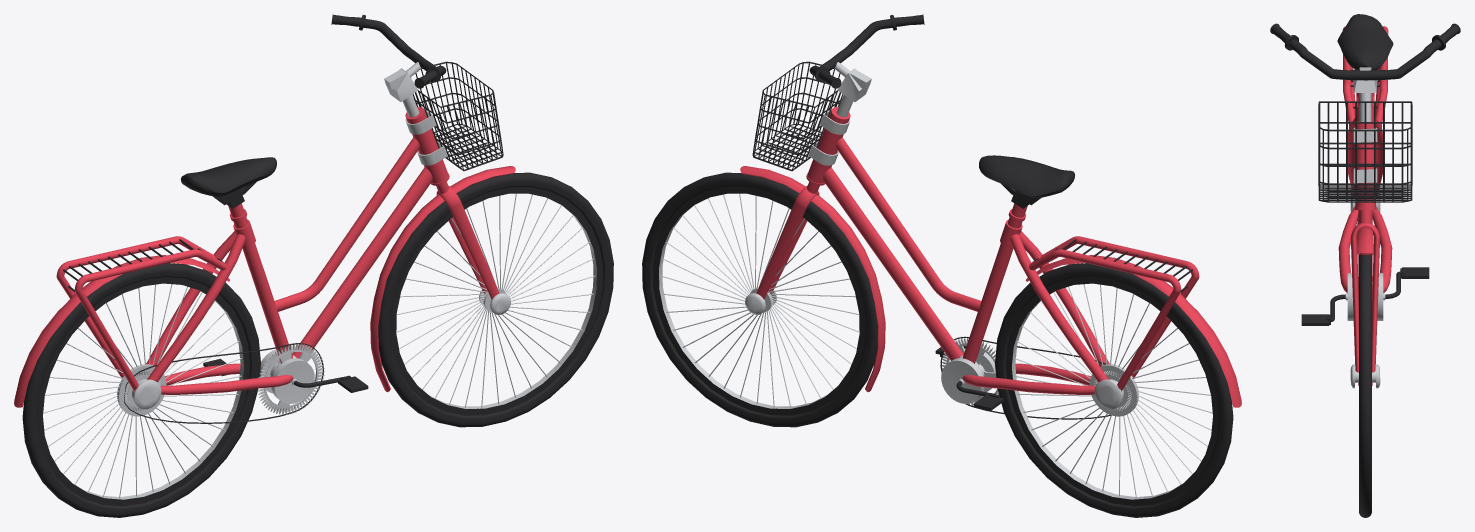
File: city.glb
3 renders of one model, left to right at view 1: azimuth 30°, elevation 25°; view 2: azimuth 150°, elevation 25°; view 3: azimuth 270°, elevation 25°, orthographic. The views are drawn at different scales.
Visible parts, largest first — view 1: dark, paint, metal; view 2: dark, paint, metal; view 3: dark, paint, metal.
Part boxes in pixels (<box>): dark: <box>22,14,613,517</box>; paint: <box>14,107,515,407</box>; metal: <box>43,62,596,499</box>; dark: <box>642,14,1233,517</box>; paint: <box>740,107,1241,407</box>; metal: <box>659,62,1212,499</box>; dark: <box>1270,14,1460,517</box>; paint: <box>1338,26,1392,385</box>; metal: <box>1345,67,1385,388</box>.
Size of the model in its own units: 1.88 by 1.24 by 0.5015.
